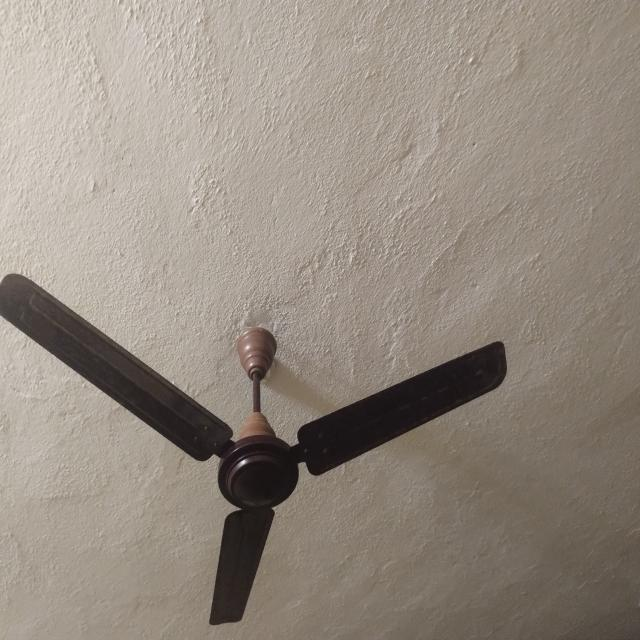fan_off: (0, 274, 505, 626)
